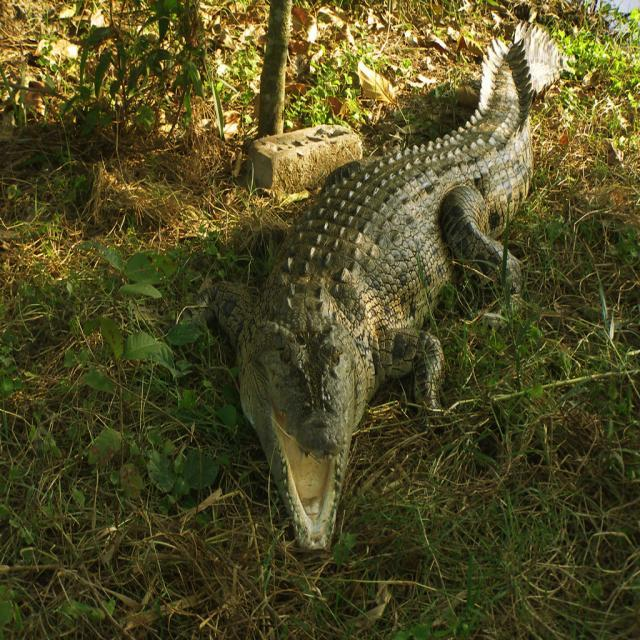crocodile: (209, 34, 570, 556)
